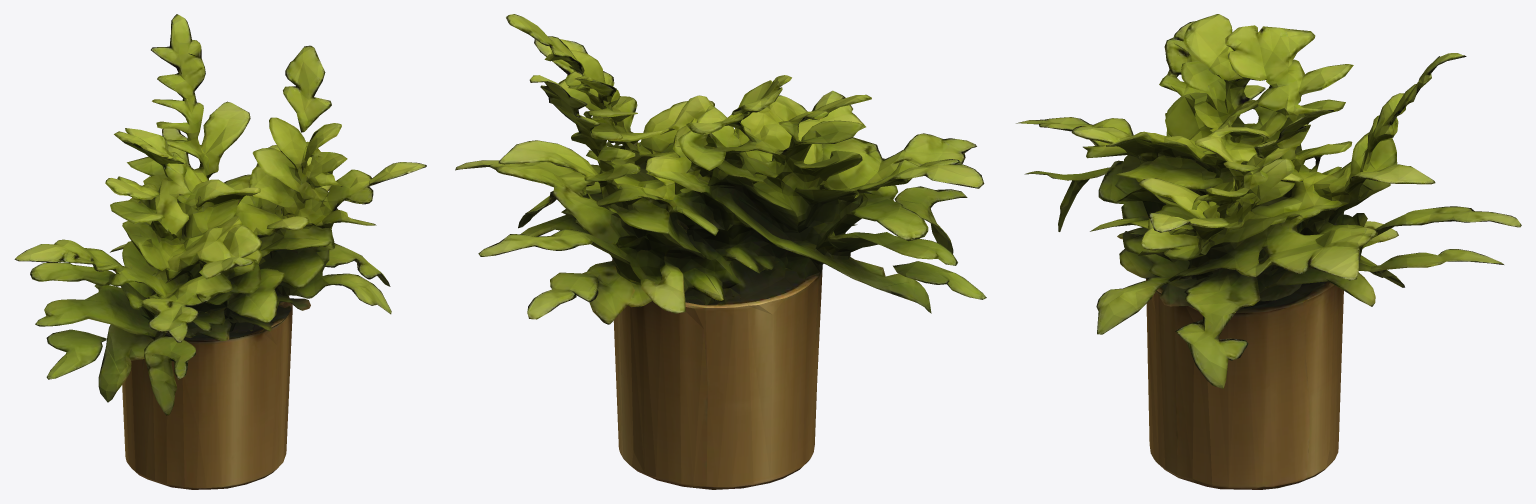
File: plant_potted_gold.glb
3 views of the same model, side by side, from view 1: azimuth 30°, elevation 25°; view 2: azimuth 150°, elevation 25°; view 3: azimuth 270°, elevation 25° (orthographic). The views are drawn at different scales.
Visible parts, largest first — view 1: geometry_0; view 2: geometry_0; view 3: geometry_0.
Part boxes in pixels (x1,y1,x2,y2): geometry_0: (14,14,426,489); geometry_0: (455,14,986,489); geometry_0: (1016,14,1521,489).
Bounding box in the file's own units: 0.9997 × 0.8852 × 0.9362.
1 material, 1 textured.
